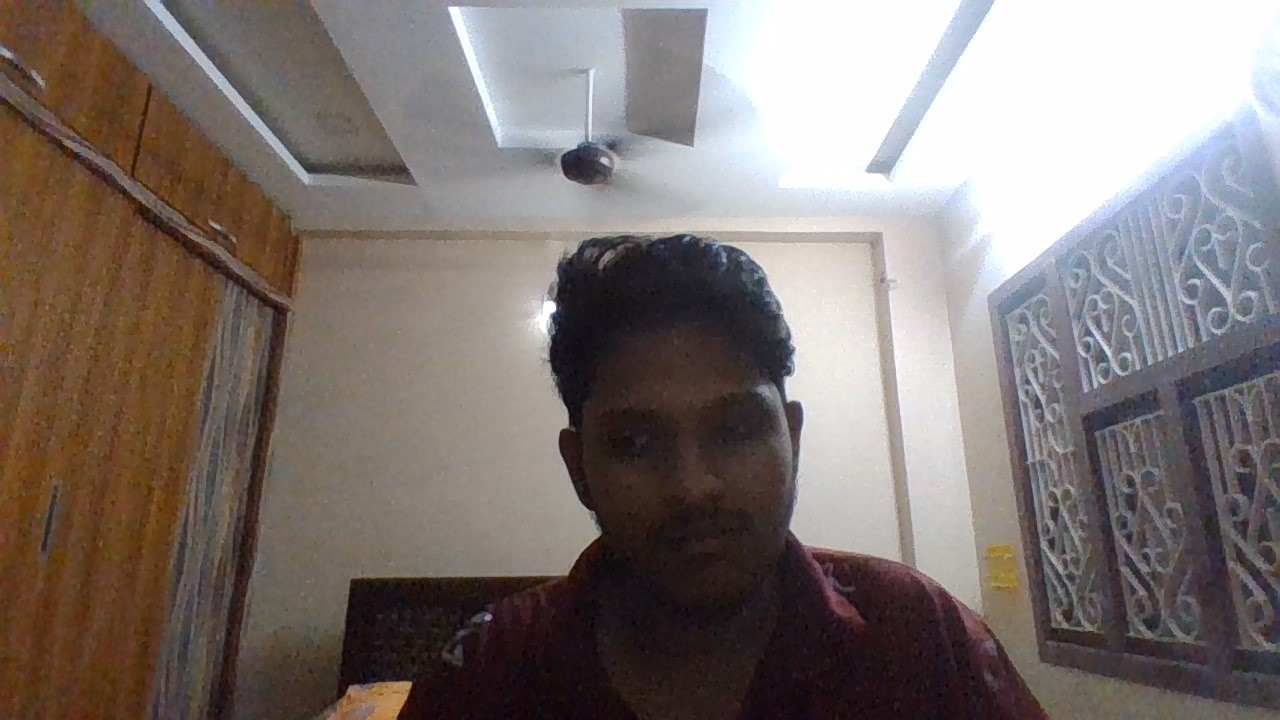person: (363, 115, 1072, 720)
